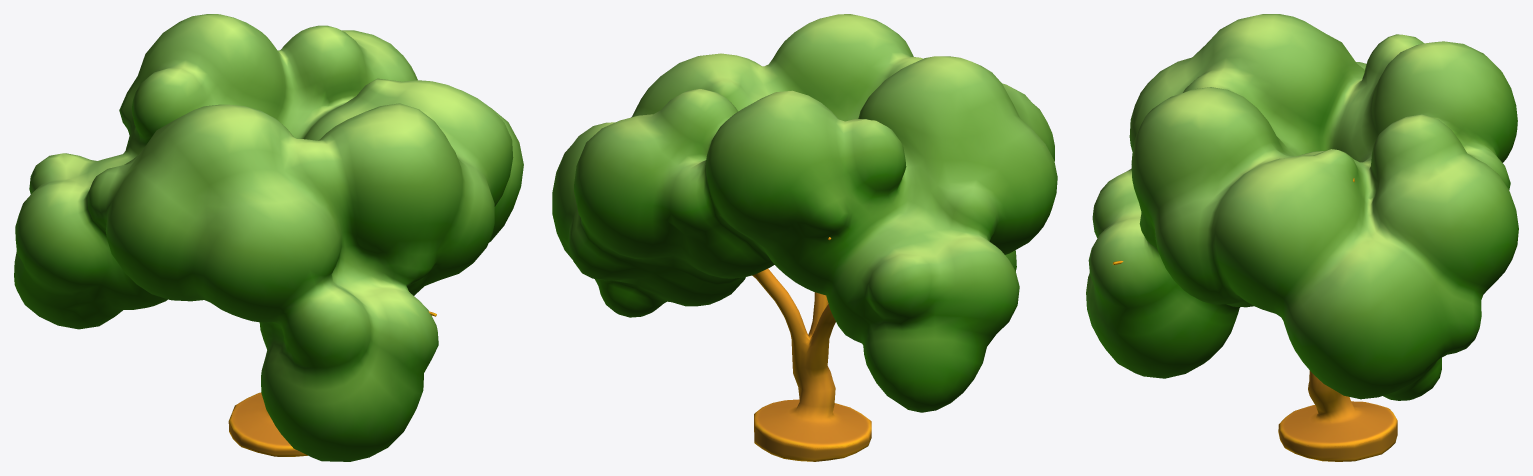
File: tree4.fbx
The picture shows the model from 3 angles, left to right: view 1: azimuth 30°, elevation 25°; view 2: azimuth 150°, elevation 25°; view 3: azimuth 270°, elevation 25°; orthographic projection.
Parts seen in each view (by area): view 1: trunk_3; view 2: trunk_3; view 3: trunk_3.
Boxes of the visible parts, x1,y1,x2,y2 form: trunk_3: (14,14,523,461); trunk_3: (552,14,1057,461); trunk_3: (1086,14,1518,461).
Bounding box in the file's own units: 543 × 422 × 434.
